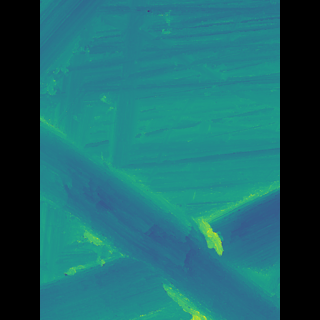Loch: (69, 111, 244, 320)
